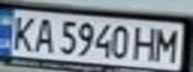0: (112, 22, 133, 60)
4: (93, 20, 115, 58)
5: (54, 17, 78, 56)
9: (75, 20, 96, 57)
A: (30, 15, 57, 54)
H: (133, 24, 160, 62)
K: (6, 12, 39, 53)
M: (151, 25, 184, 64)
